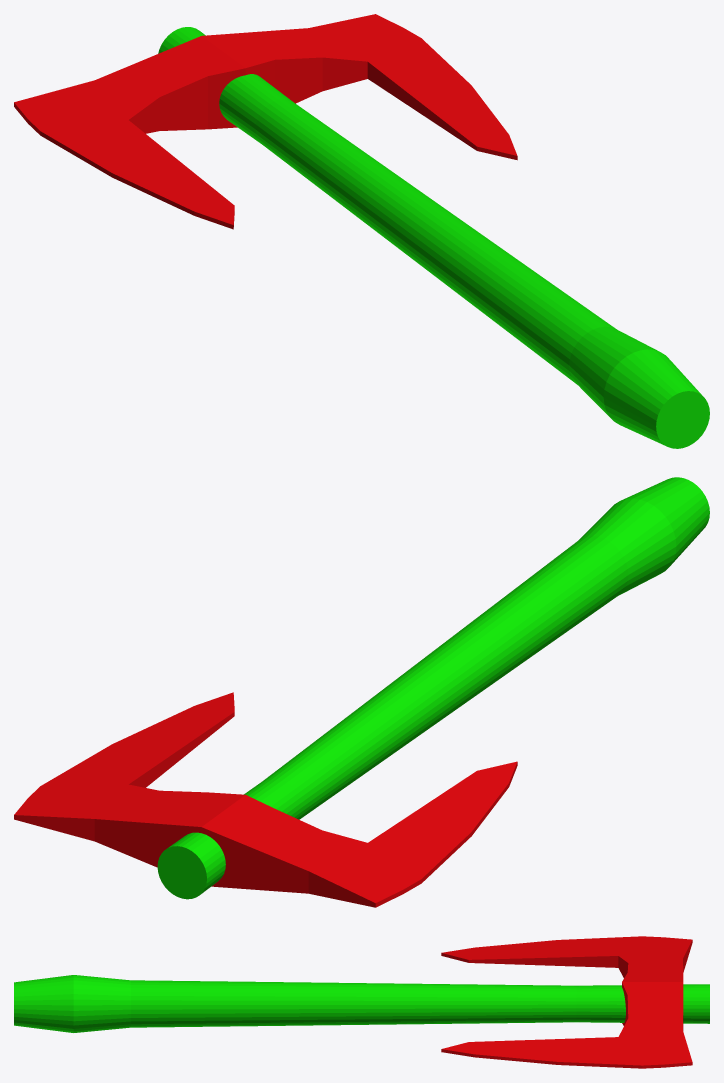
File: Axe_2.fbx
3 views of the same model, one above another, from view 1: azimuth 30°, elevation 25°; view 2: azimuth 150°, elevation 25°; view 3: azimuth 270°, elevation 25° (orthographic). The views are drawn at different scales.
Parts seen in each view (by area): view 1: blade-axe-2, handle-axe-2; view 2: blade-axe-2, handle-axe-2; view 3: handle-axe-2, blade-axe-2.
Part boxes in pixels (x1,y1,x2,y2): blade-axe-2: (14,14,517,229); handle-axe-2: (158,27,709,448); blade-axe-2: (14,692,517,907); handle-axe-2: (157,477,709,899); handle-axe-2: (14,975,709,1032); blade-axe-2: (441,936,692,1068).
Size of the model in its own units: 38.63 by 7.37 by 87.91.
